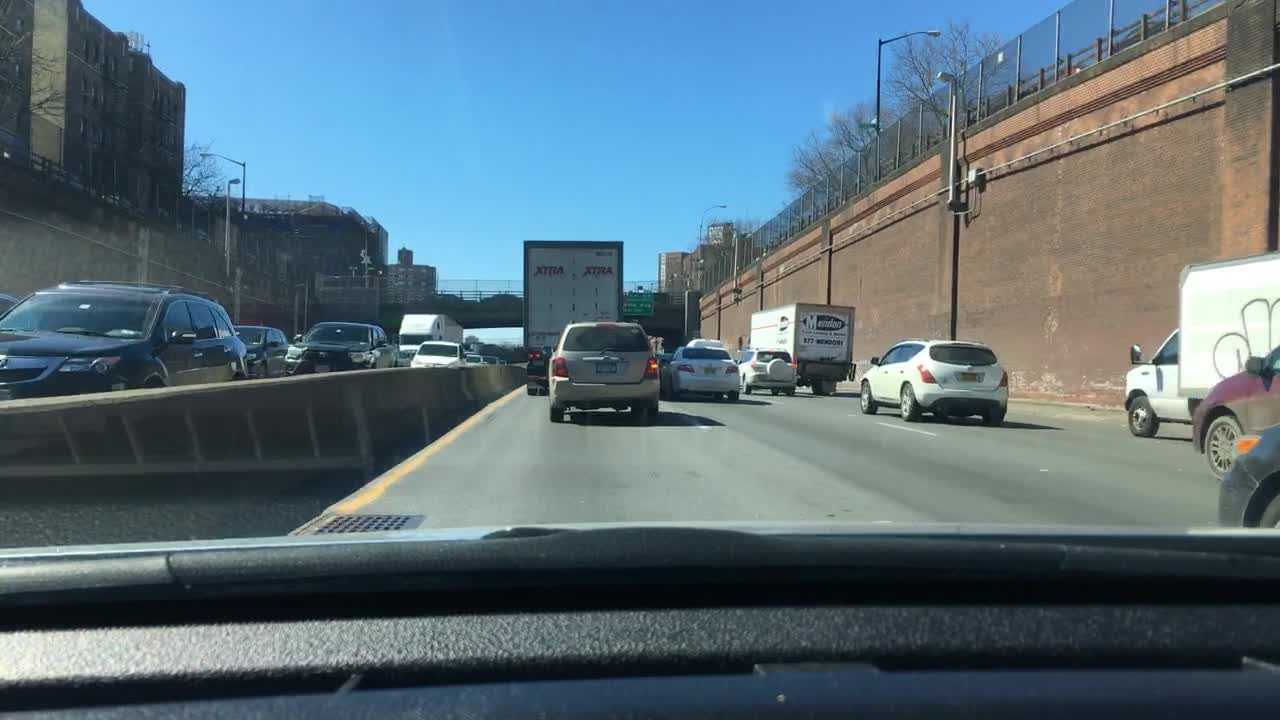car: (0, 277, 254, 401), (860, 339, 1006, 422), (546, 324, 661, 425), (1190, 346, 1278, 476), (1216, 424, 1278, 529), (285, 323, 396, 373), (666, 348, 737, 399), (232, 326, 286, 375), (737, 350, 797, 394), (409, 341, 470, 365), (2, 295, 19, 319), (685, 338, 728, 346), (486, 355, 504, 366), (467, 355, 484, 365)
traffic sign: (621, 300, 653, 315), (627, 293, 652, 299)
truck: (1124, 252, 1276, 439), (522, 239, 622, 394), (736, 301, 854, 391), (398, 311, 461, 365), (424, 291, 464, 303), (477, 291, 515, 303)
